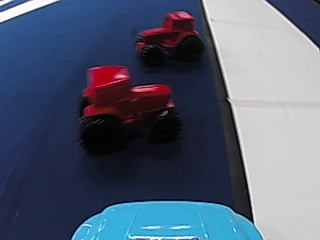tractor: (77, 60, 174, 152), (133, 8, 204, 64)
